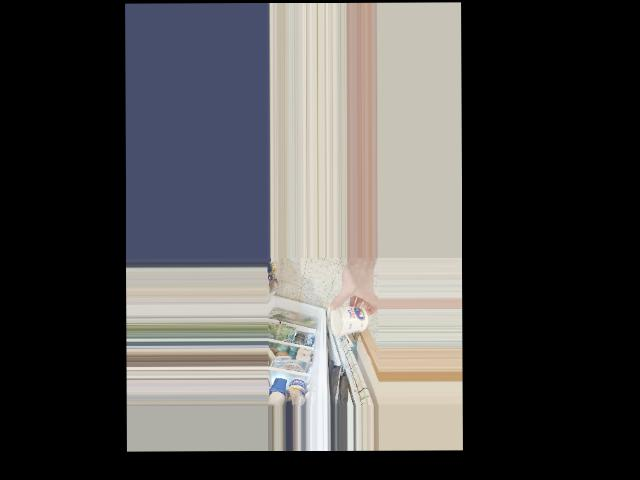cotage: (331, 304, 368, 336)
